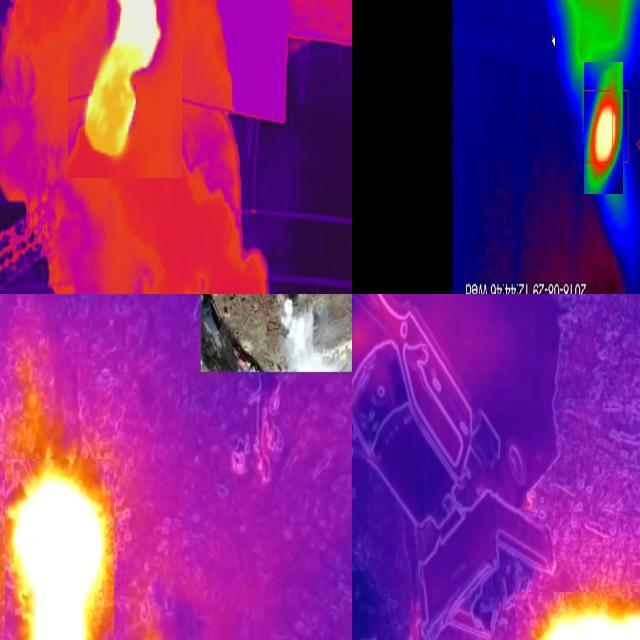fire: (6, 472, 113, 640), (82, 1, 168, 160), (536, 602, 640, 640), (588, 88, 626, 179)
